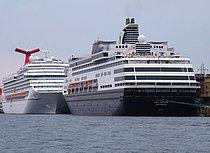Ship: (55, 14, 202, 121), (2, 42, 74, 118)
